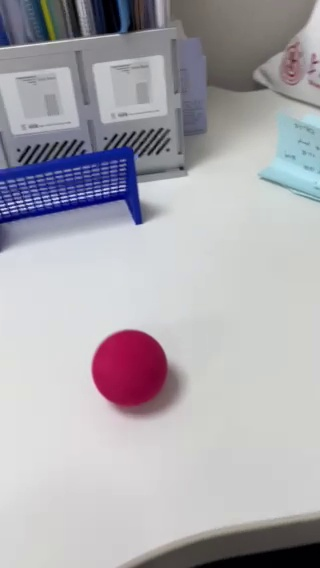goal: (0, 150, 143, 248)
redball: (92, 329, 165, 409)
